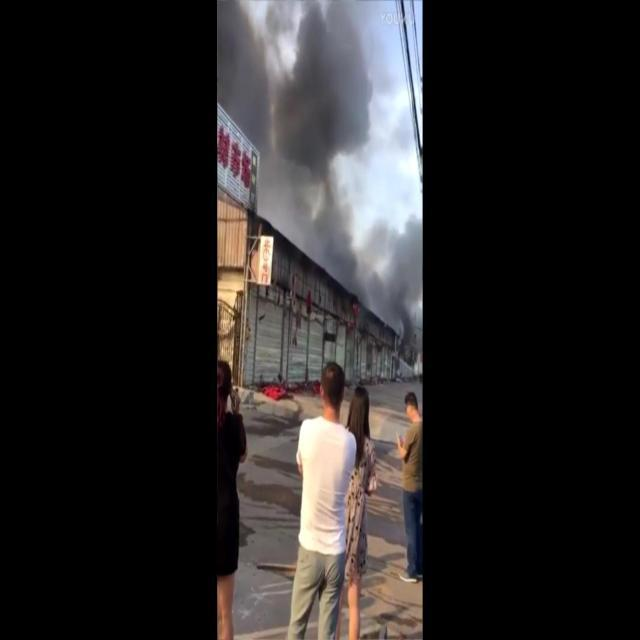Smoke: (217, 0, 423, 353)
